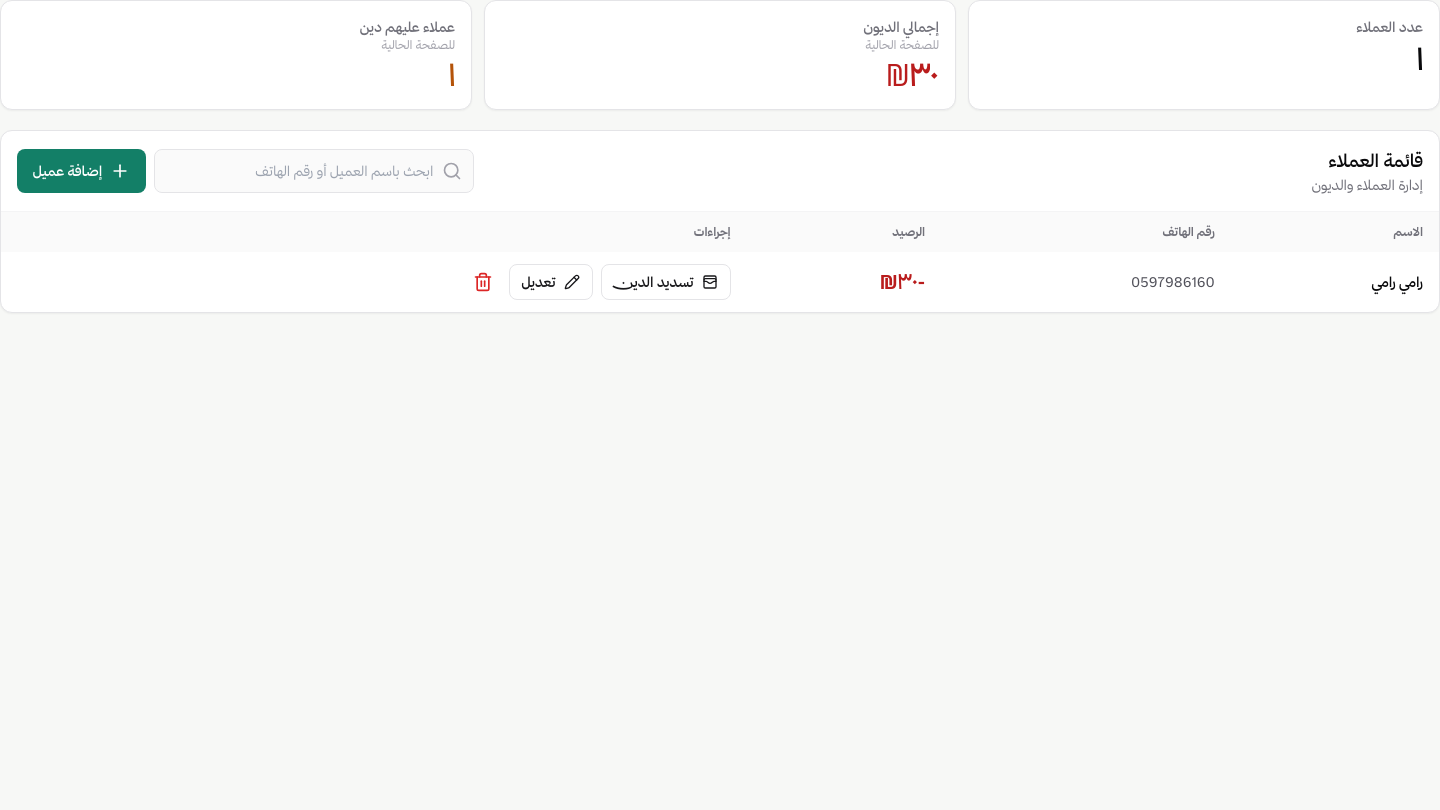
Test case: CustomersPage details modal › does not show the pay debt action in the customer details footer
This screenshot has width=1440, height=810.
Click the button "تسديد الدين": click(666, 282) 601,264 -> 731,300
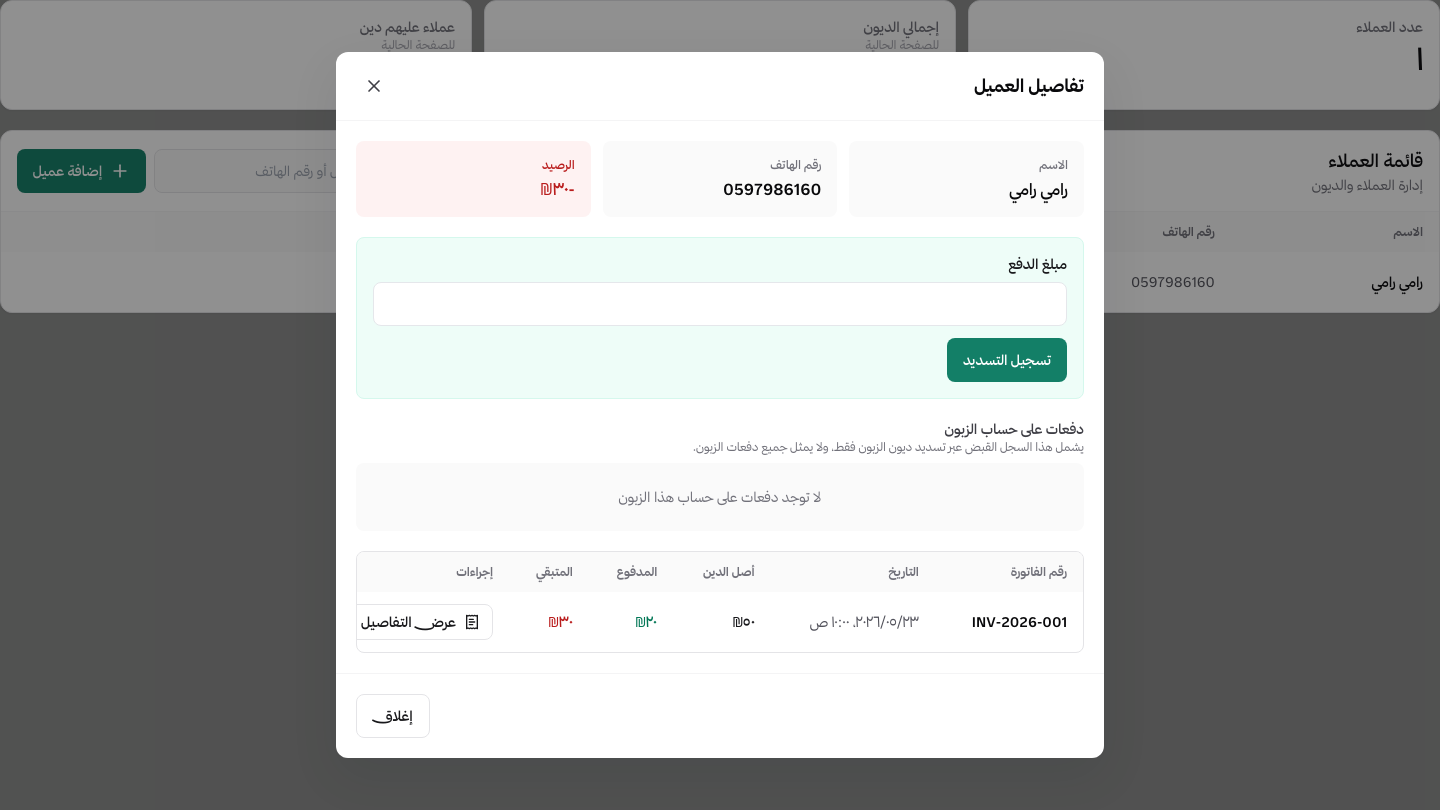
Check: the footer reads "إغلاق", box 356,694 -> 430,738
